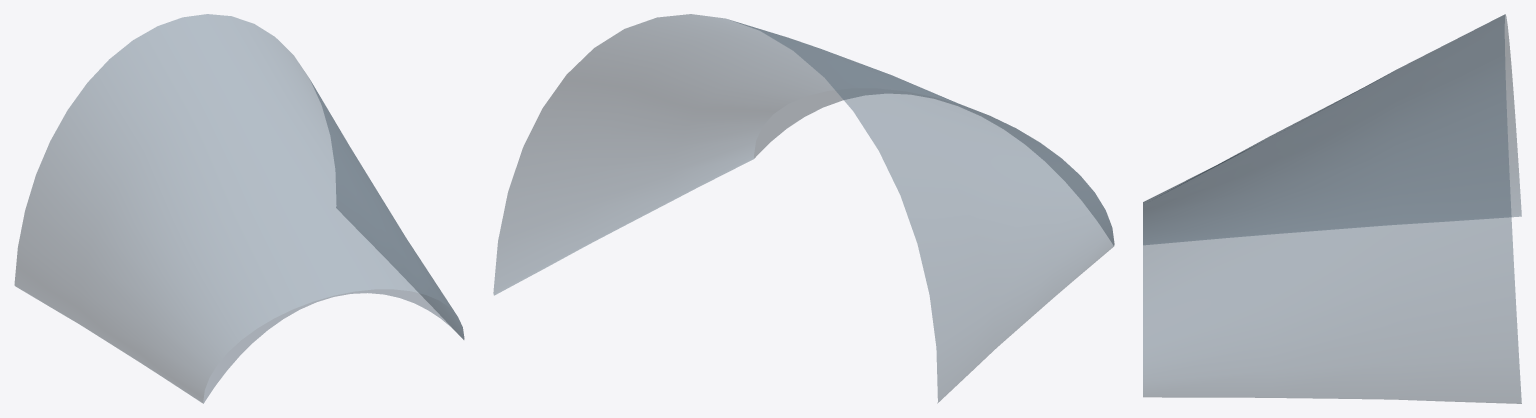
The model's file is windscreen.fbx.
3 renders of one model, left to right at view 1: azimuth 30°, elevation 25°; view 2: azimuth 150°, elevation 25°; view 3: azimuth 270°, elevation 25°, orthographic. The views are drawn at different scales.
Parts seen in each view (by area): view 1: windscreen; view 2: windscreen; view 3: windscreen.
Boxes of the visible parts, x1,y1,x2,y2 form: windscreen: [14, 14, 464, 403]; windscreen: [493, 14, 1114, 403]; windscreen: [1143, 14, 1521, 403].
Size of what is drawn, in the model's own units: 0.7394 by 0.5358 by 0.63.
